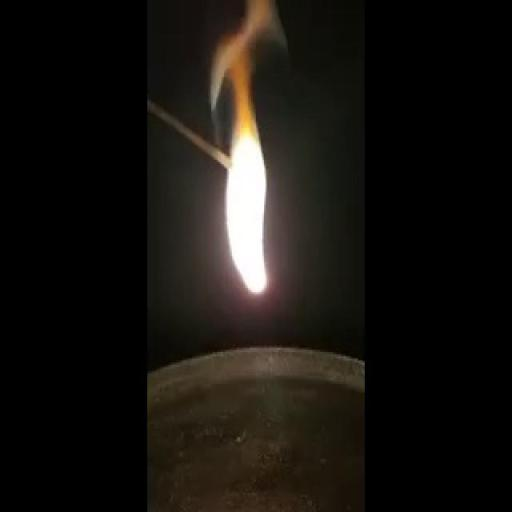smoke: (211, 50, 274, 304)
